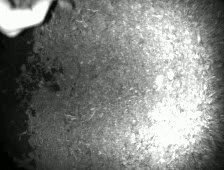corn: (153, 73, 165, 86)
